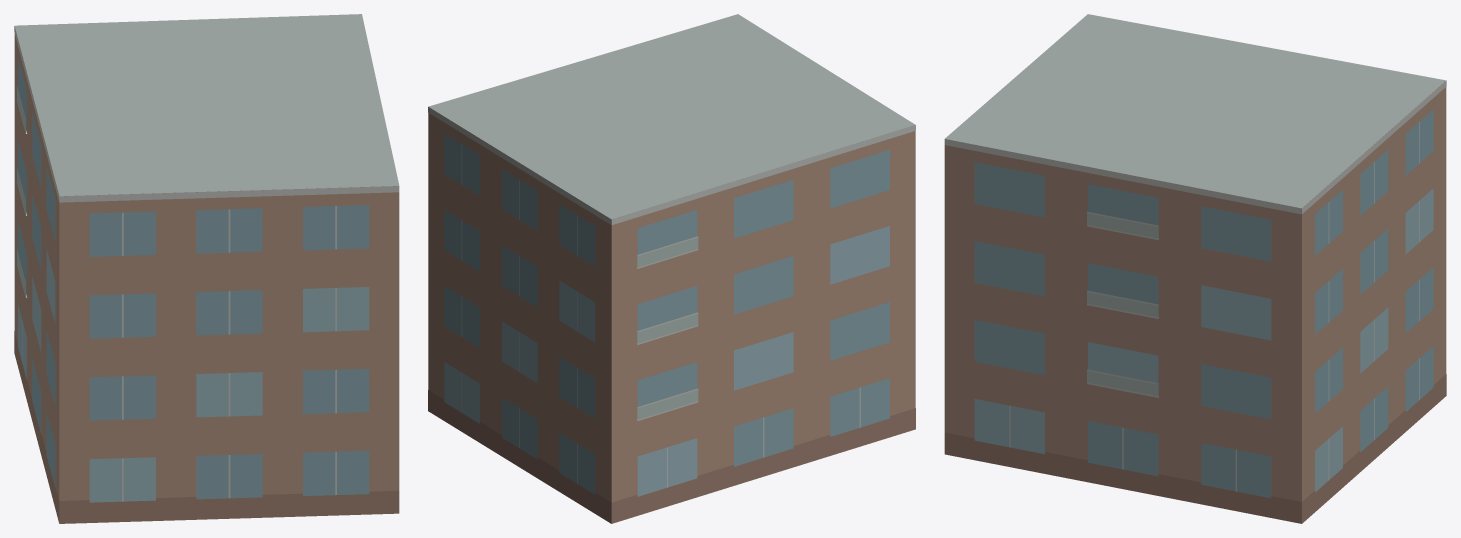
The model's file is survey-upis-32632724.glb.
3 renders of one model, left to right at view 1: azimuth 30°, elevation 25°; view 2: azimuth 150°, elevation 25°; view 3: azimuth 270°, elevation 25°, orthographic. The views are drawn at different scales.
Parts seen in each view (by area): view 1: survey-upis-32632724.tmp; view 2: survey-upis-32632724.tmp; view 3: survey-upis-32632724.tmp.
Boxes of the visible parts, bbox=[...] form: survey-upis-32632724.tmp: bbox=[14, 14, 399, 523]; survey-upis-32632724.tmp: bbox=[428, 14, 915, 523]; survey-upis-32632724.tmp: bbox=[944, 14, 1446, 523].
Bounding box in the file's own units: 16.66 × 12.6 × 18.17.
